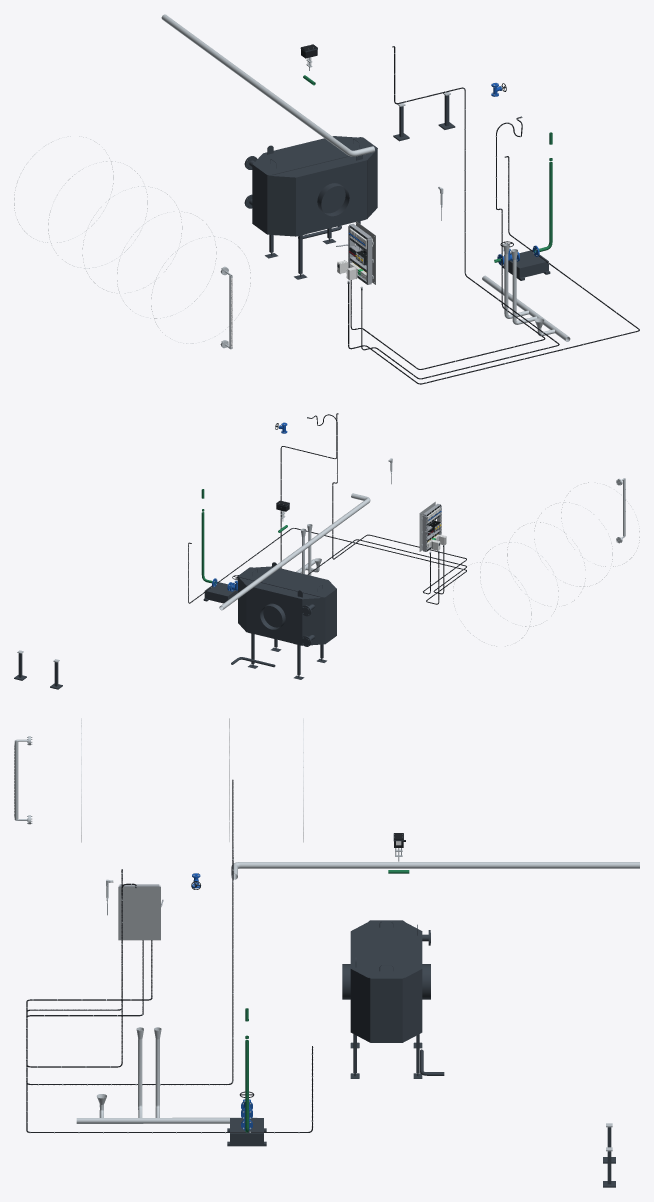
Rendered from s4000-2-CW5YofDk.glb.
3 renders of one model, top to bottom at view 1: azimuth 30°, elevation 25°; view 2: azimuth 150°, elevation 25°; view 3: azimuth 270°, elevation 25°, orthographic. The views are drawn at different scales.
Visible parts, largest first — view 1: EQS2-2000 CAD 0, EQS2-2000 CAD 3, EQS2-2000 CAD 1, safety_vent_2 / steel, local_open_drains / steel, cabinet_interior / cabinet_interior_0.npz, gpz_drive_cable / black, wiring_pump_2 / black, wiring_pressure_transmitter / black, deaerator_details / steel, pump_branch_1 / dark; view 2: EQS2-2000 CAD 0, EQS2-2000 CAD 3, EQS2-2000 CAD 2, safety_vent_2 / steel, cabinet_interior / cabinet_interior_0.npz, gpz_drive_cable / black, wiring_pump_2 / black, wiring_pressure_transmitter / black, deaerator_details / steel, local_open_drains / steel, pump_branch_1 / dark; view 3: EQS2-2000 CAD 3, safety_vent_2 / steel, cabinet_interior / cabinet_interior_0.npz, local_open_drains / steel, EQS2-2000 CAD 0, wiring_pressure_transmitter / black, gpz_drive_cable / black, pump_branch_1 / dark, deaerator_details / steel, wiring_pump_2 / black.
Boxes of the visible parts, bbox=[...] form: EQS2-2000 CAD 0: bbox=[265, 160, 366, 279]; EQS2-2000 CAD 3: bbox=[252, 136, 377, 234]; EQS2-2000 CAD 1: bbox=[267, 175, 295, 236]; safety_vent_2 / steel: bbox=[161, 14, 374, 156]; local_open_drains / steel: bbox=[482, 243, 570, 341]; cabinet_interior / cabinet_interior_0.npz: bbox=[336, 221, 375, 284]; gpz_drive_cable / black: bbox=[361, 46, 559, 379]; wiring_pump_2 / black: bbox=[348, 156, 639, 384]; wiring_pressure_transmitter / black: bbox=[350, 117, 545, 369]; deaerator_details / steel: bbox=[14, 136, 250, 349]; pump_branch_1 / dark: bbox=[502, 250, 550, 280]; EQS2-2000 CAD 0: bbox=[246, 585, 326, 679]; EQS2-2000 CAD 3: bbox=[238, 562, 336, 643]; EQS2-2000 CAD 2: bbox=[301, 597, 325, 646]; safety_vent_2 / steel: bbox=[219, 493, 370, 610]; cabinet_interior / cabinet_interior_0.npz: bbox=[419, 501, 441, 551]; gpz_drive_cable / black: bbox=[280, 413, 466, 594]; wiring_pump_2 / black: bbox=[188, 528, 466, 604]; wiring_pressure_transmitter / black: bbox=[308, 414, 466, 594]; deaerator_details / steel: bbox=[453, 478, 639, 646]; local_open_drains / steel: bbox=[296, 524, 321, 575]; pump_branch_1 / dark: bbox=[203, 582, 237, 603]; EQS2-2000 CAD 3: bbox=[350, 920, 422, 1042]; safety_vent_2 / steel: bbox=[231, 862, 639, 879]; cabinet_interior / cabinet_interior_0.npz: bbox=[118, 884, 163, 940]; local_open_drains / steel: bbox=[76, 1027, 256, 1123]; EQS2-2000 CAD 0: bbox=[342, 964, 430, 1078]; wiring_pressure_transmitter / black: bbox=[26, 869, 152, 1067]; gpz_drive_cable / black: bbox=[26, 779, 233, 1084]; pump_branch_1 / dark: bbox=[227, 1118, 266, 1146]; deaerator_details / steel: bbox=[14, 718, 303, 842]; wiring_pump_2 / black: bbox=[26, 940, 313, 1132].
Bounding box in the file's own units: 7.8 × 3.66 × 7.17.
